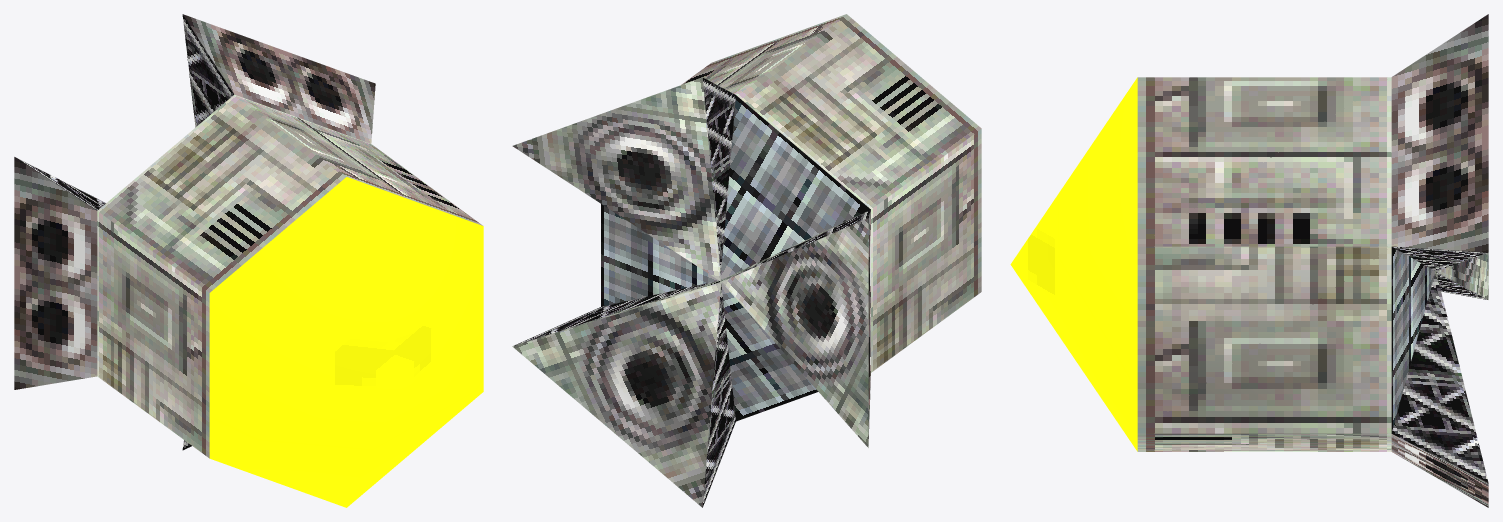
Rendered from ttrooppod_3db.gltf.
3 views of the same model, side by side, from view 1: azimuth 30°, elevation 25°; view 2: azimuth 150°, elevation 25°; view 3: azimuth 270°, elevation 25° (orthographic). The views are drawn at different scales.
Visible parts, largest first — view 1: ttrooppod.3db; view 2: ttrooppod.3db; view 3: ttrooppod.3db.
Part boxes in pixels (x1,y1,x2,y2): ttrooppod.3db: [14, 14, 483, 507]; ttrooppod.3db: [512, 14, 981, 507]; ttrooppod.3db: [1010, 14, 1488, 507].
Size of the model in its own units: 2.15 by 2.48 by 2.18.
Materials: 4 (4 with a texture image).
